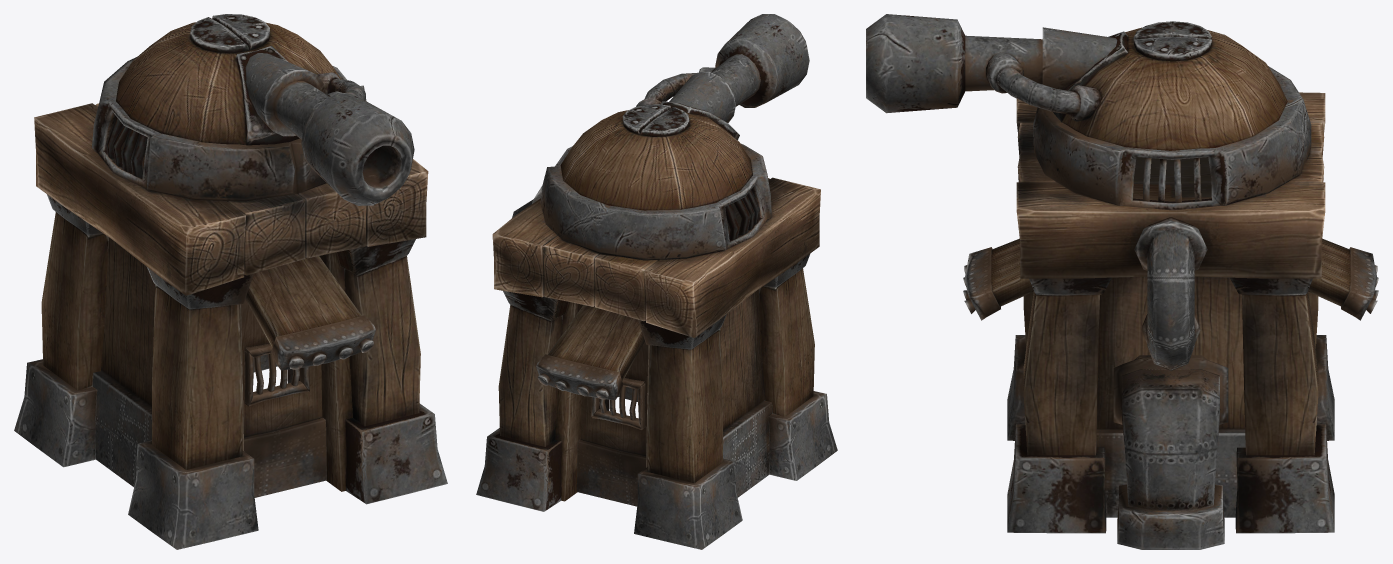
Rendered from new_tower_with_pbr.glb.
The picture shows the model from 3 angles, left to right: view 1: azimuth 30°, elevation 25°; view 2: azimuth 150°, elevation 25°; view 3: azimuth 270°, elevation 25°; orthographic projection. The views are drawn at different scales.
Parts seen in each view (by area): view 1: Object_2; view 2: Object_2; view 3: Object_2.
Boxes of the visible parts, x1=… form: Object_2: x1=14, y1=14, x2=447, y2=549; Object_2: x1=476, y1=14, x2=837, y2=549; Object_2: x1=866, y1=14, x2=1378, y2=549.
Size of the model in its own units: 2.77 by 3.81 by 3.94.
Materials: 1 (1 with a texture image).
